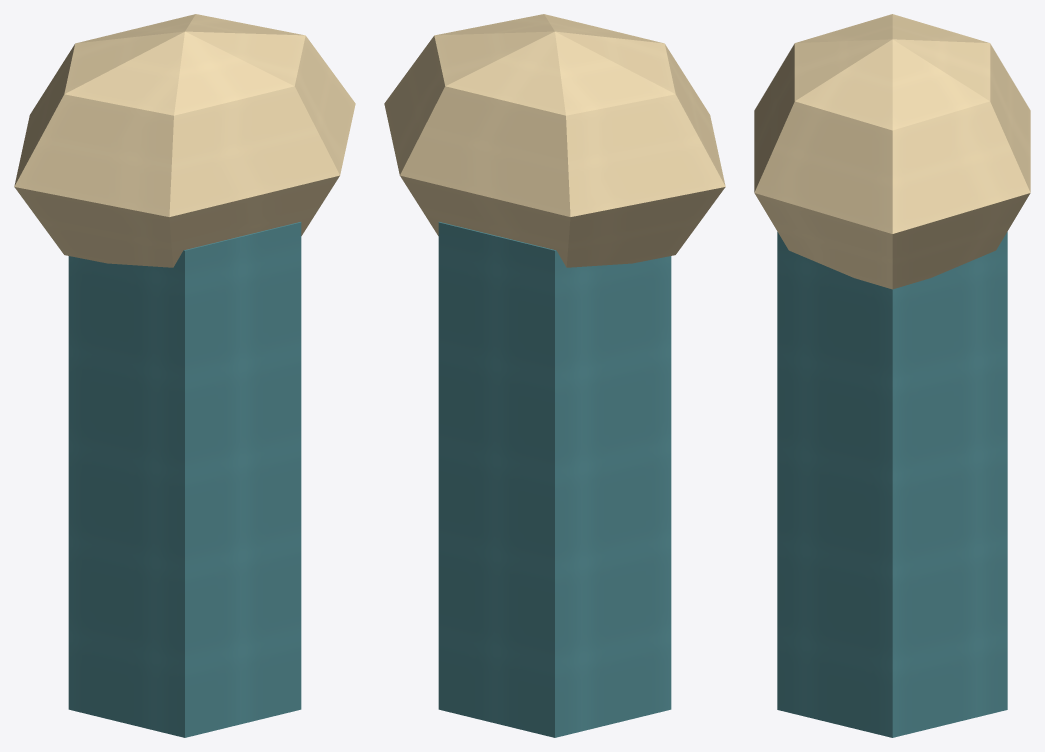
Rendered from atlas100-s074-a05.lod2.glb.
3 views of the same model, side by side, from view 1: azimuth 30°, elevation 25°; view 2: azimuth 150°, elevation 25°; view 3: azimuth 270°, elevation 25° (orthographic).
Visible parts, largest first — view 1: atlas100-s074-a05:part-001, atlas100-s074-a05:part-002; view 2: atlas100-s074-a05:part-001, atlas100-s074-a05:part-002; view 3: atlas100-s074-a05:part-001, atlas100-s074-a05:part-002.
Part boxes in pixels (box(x1,y1,x2,y2)): atlas100-s074-a05:part-001: box(68, 222, 301, 737); atlas100-s074-a05:part-002: box(14, 14, 355, 267); atlas100-s074-a05:part-001: box(438, 222, 671, 737); atlas100-s074-a05:part-002: box(384, 14, 725, 267); atlas100-s074-a05:part-001: box(777, 232, 1007, 737); atlas100-s074-a05:part-002: box(754, 14, 1030, 289).
Bounding box in the file's own units: 0.2402 × 0.4368 × 0.1702.
2 materials, 2 textured.
